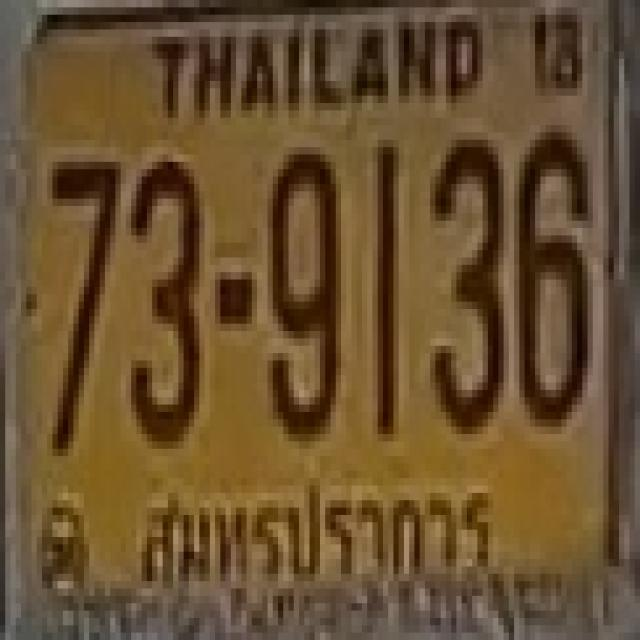1: (372, 140, 393, 412)
3: (428, 132, 501, 427), (126, 154, 199, 442)
6: (514, 125, 588, 419)
7: (48, 155, 116, 434)
9: (262, 147, 336, 434)
SPK: (123, 467, 501, 592)
